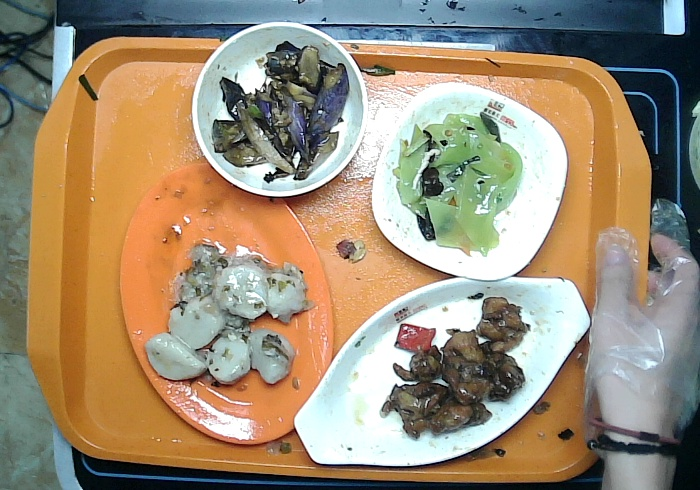NLDX-Bai_Se_Xiao_Fang_Die: (371, 83, 568, 281)
NLDX-Fan_Wan: (192, 21, 367, 198)
NLDX-Ju_Se_Pan: (119, 162, 333, 446)
NLDX-Yu_Pan: (294, 276, 592, 468)
